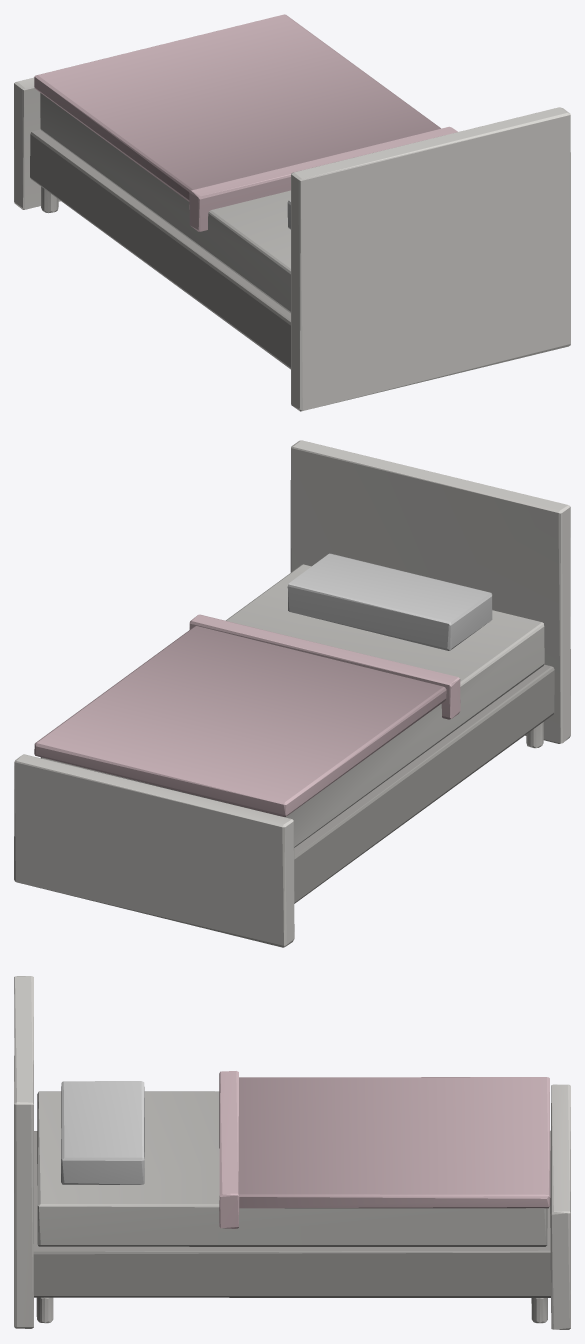
The model's file is furn_bed__pink_low.glb.
3 renders of one model, top to bottom at view 1: azimuth 30°, elevation 25°; view 2: azimuth 150°, elevation 25°; view 3: azimuth 270°, elevation 25°, orthographic. The views are drawn at different scales.
Bounding box in the file's own units: 1.16 × 0.9554 × 2.12.
